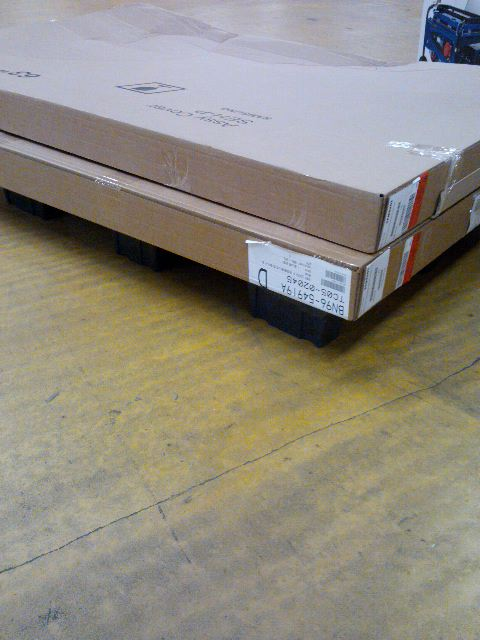label: (243, 239, 350, 320), (380, 178, 417, 250), (358, 251, 386, 316)
package: (0, 3, 480, 254), (0, 130, 480, 322)
